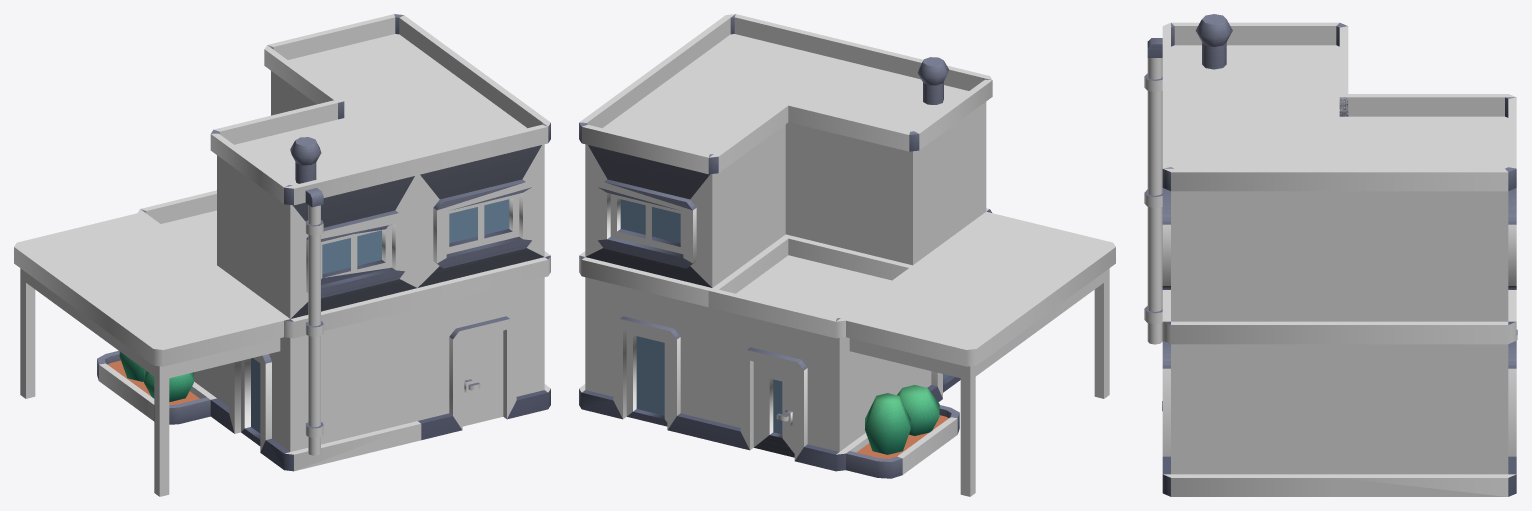
File: casa-dos-fundos.glb
3 views of the same model, side by side, from view 1: azimuth 30°, elevation 25°; view 2: azimuth 150°, elevation 25°; view 3: azimuth 270°, elevation 25° (orthographic). The views are drawn at different scales.
Visible parts, largest first — view 1: building-type-q; view 2: building-type-q; view 3: building-type-q.
Boxes of the visible parts, left/top/right/bottom form: building-type-q: left=14, top=14, right=550, bottom=496; building-type-q: left=579, top=14, right=1115, bottom=496; building-type-q: left=1144, top=14, right=1517, bottom=496.
Size of the model in its own units: 1.24 by 0.918 by 0.8856.
Materials: 6 (1 with a texture image).
